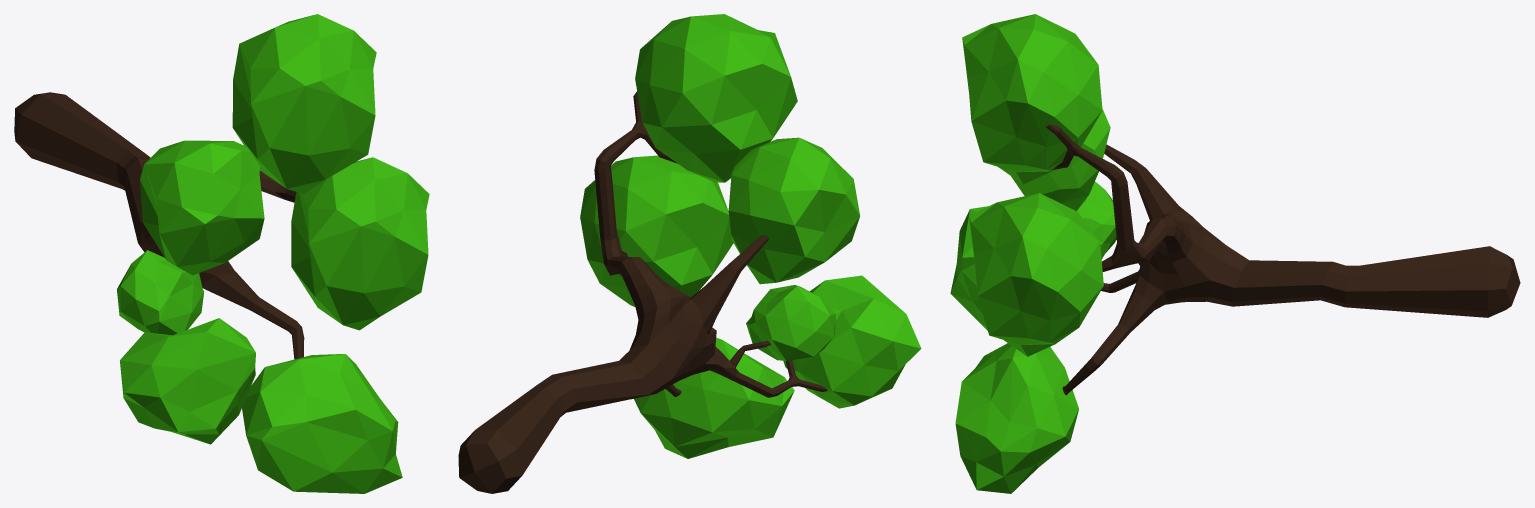
Rendered from Tree1.3.obj.
The picture shows the model from 3 angles, left to right: view 1: azimuth 30°, elevation 25°; view 2: azimuth 150°, elevation 25°; view 3: azimuth 270°, elevation 25°; orthographic projection. The views are drawn at different scales.
Visible parts, largest first — view 1: Tree1.3; view 2: Tree1.3; view 3: Tree1.3.
Boxes of the visible parts, x1,y1,x2,y2 form: Tree1.3: [14, 14, 429, 493]; Tree1.3: [458, 14, 921, 493]; Tree1.3: [950, 14, 1520, 493].
Bounding box in the file's own units: 2.69 × 3.66 × 4.24.
